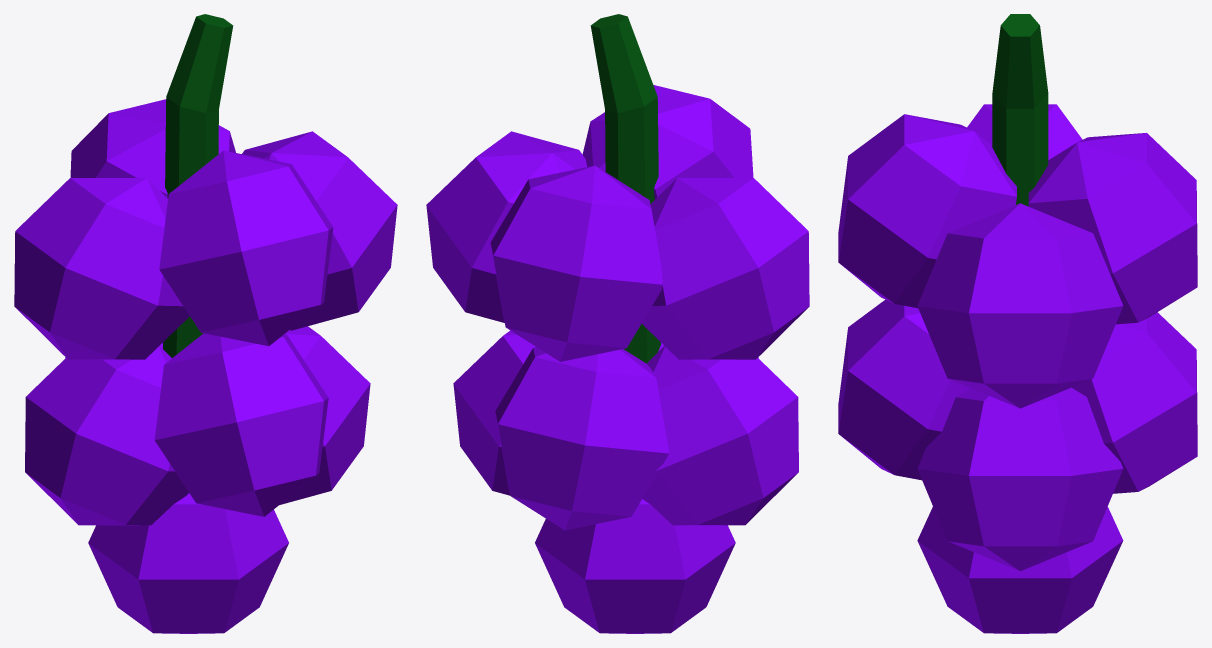
Rendered from Uva.fbx.
The picture shows the model from 3 angles, left to right: view 1: azimuth 30°, elevation 25°; view 2: azimuth 150°, elevation 25°; view 3: azimuth 270°, elevation 25°; orthographic projection. The views are drawn at different scales.
Parts seen in each view (by area): view 1: Uva; view 2: Uva; view 3: Uva.
Boxes of the visible parts, x1,y1,x2,y2 form: Uva: [14, 14, 397, 633]; Uva: [426, 14, 809, 633]; Uva: [838, 14, 1197, 633].
Size of the model in its own units: 25.05 by 42.89 by 22.29.
1 material, 1 textured.
